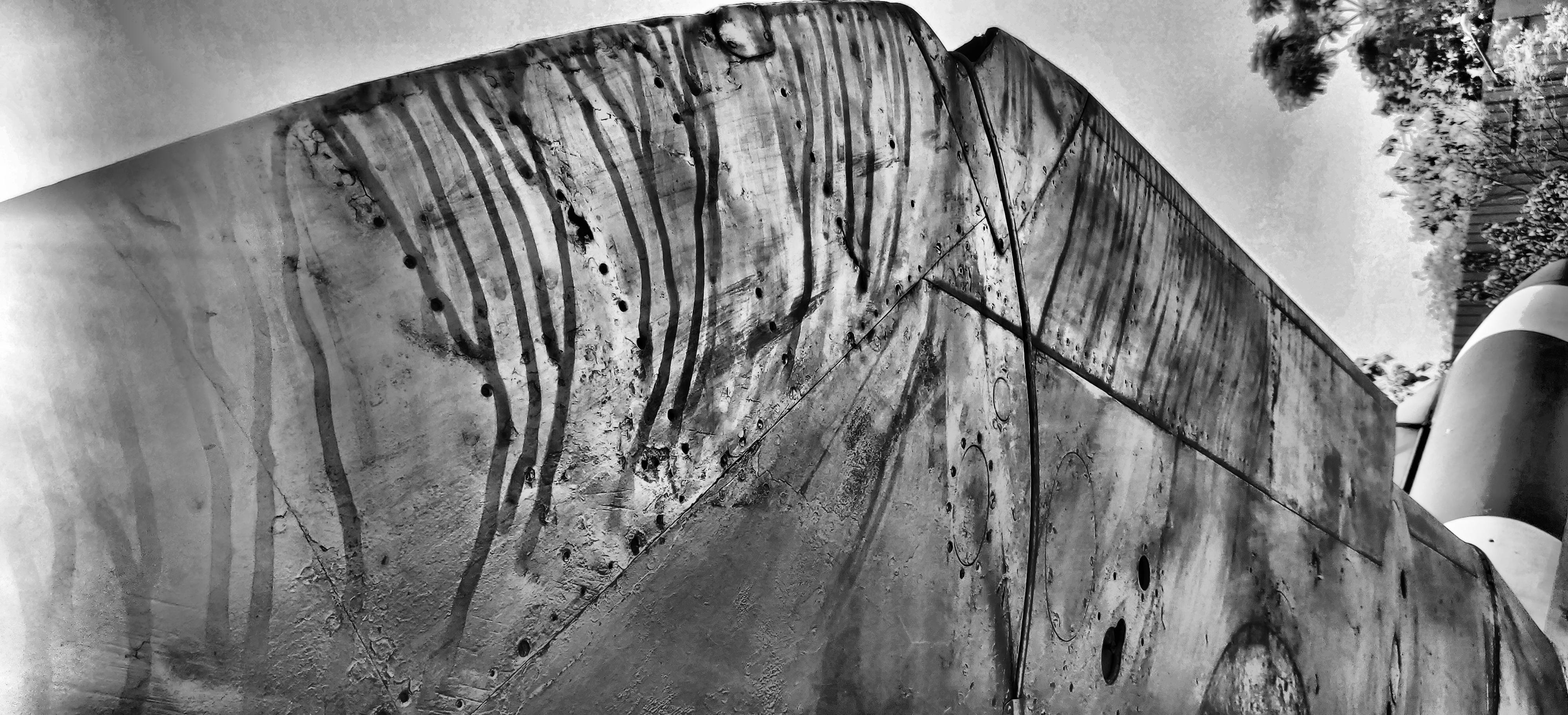crack: (1037, 258, 1118, 271), (1317, 148, 1350, 177), (1123, 163, 1181, 172), (538, 292, 566, 301)
dent: (1496, 292, 1534, 306)
missing-head: (126, 236, 167, 242), (349, 287, 392, 292), (698, 219, 726, 226), (24, 181, 53, 187), (798, 290, 832, 295), (882, 196, 911, 201), (1293, 232, 1322, 237), (982, 184, 1008, 189), (12, 207, 36, 212), (968, 273, 992, 278), (1295, 306, 1319, 311), (332, 257, 361, 261), (645, 304, 674, 308), (1071, 170, 1090, 176), (1130, 253, 1152, 258), (884, 282, 910, 286), (1374, 298, 1400, 302), (203, 250, 222, 255), (1451, 289, 1473, 293), (261, 264, 282, 268), (418, 299, 444, 302), (573, 311, 595, 314), (81, 223, 101, 226), (318, 277, 337, 280)
paint-peel-off: (1059, 61, 1116, 83), (535, 281, 591, 286), (622, 282, 653, 290), (602, 230, 634, 237), (509, 239, 548, 244), (806, 246, 836, 252), (1178, 154, 1200, 161), (868, 94, 887, 99)
scratch: (21, 33, 67, 80), (234, 56, 265, 89), (22, 199, 46, 221), (444, 293, 485, 303), (48, 209, 69, 223), (445, 274, 464, 288), (610, 314, 629, 326), (485, 272, 497, 286)
